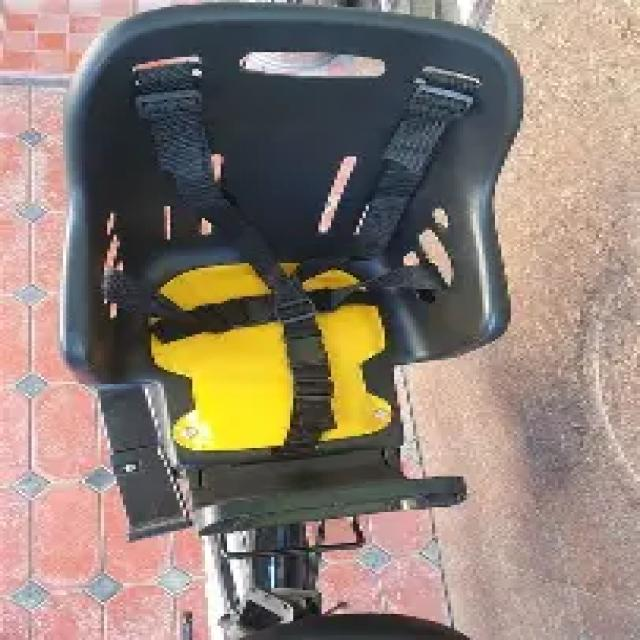childseat: (68, 3, 542, 542)
